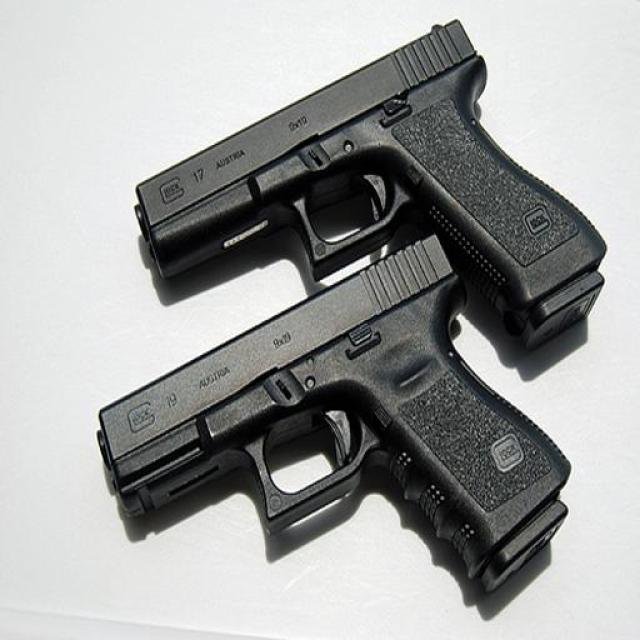pistol: (96, 230, 575, 611), (133, 16, 604, 348)
